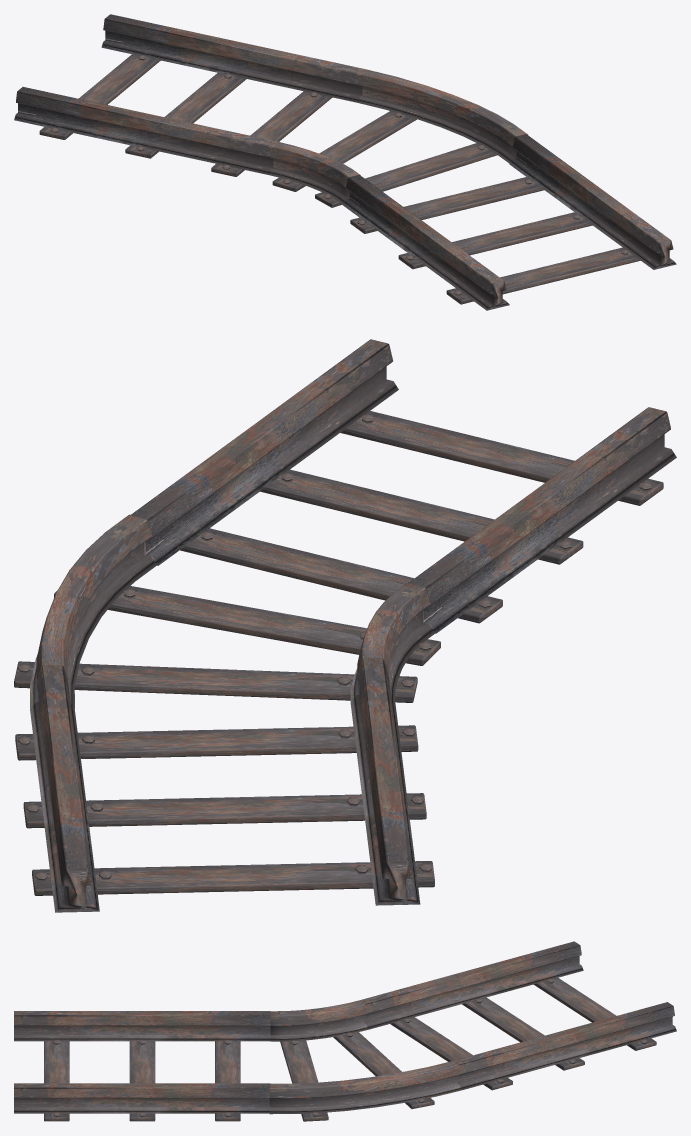
Rendered from rails(formats)AlanFix.fbx.
3 renders of one model, top to bottom at view 1: azimuth 30°, elevation 25°; view 2: azimuth 150°, elevation 25°; view 3: azimuth 270°, elevation 25°, orthographic. The views are drawn at different scales.
Visible parts, largest first — view 1: rayH (×3); view 2: rayH (×3); view 3: rayH (×3).
Part boxes in pixels (x1,y1,x2,y2): rayH (×3): (14,14,676,310); rayH (×3): (14,339,676,912); rayH (×3): (14,941,676,1121).
Bounding box in the file's own units: 431 × 35.02 × 775.
